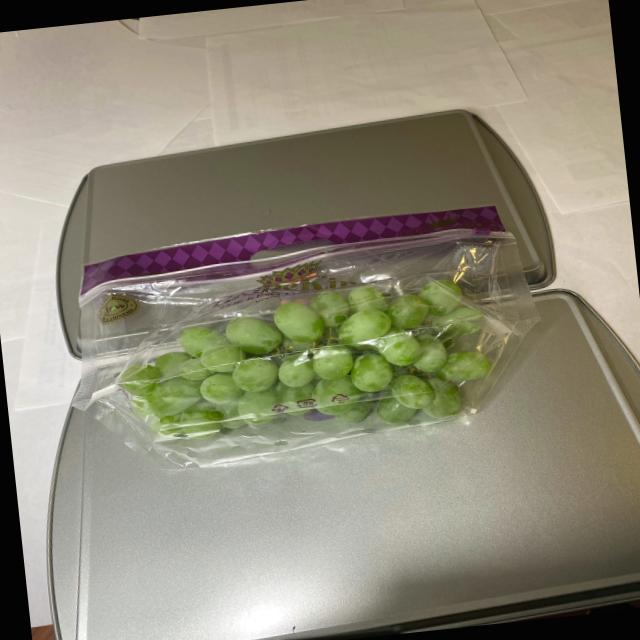grapes: (128, 271, 528, 462)
